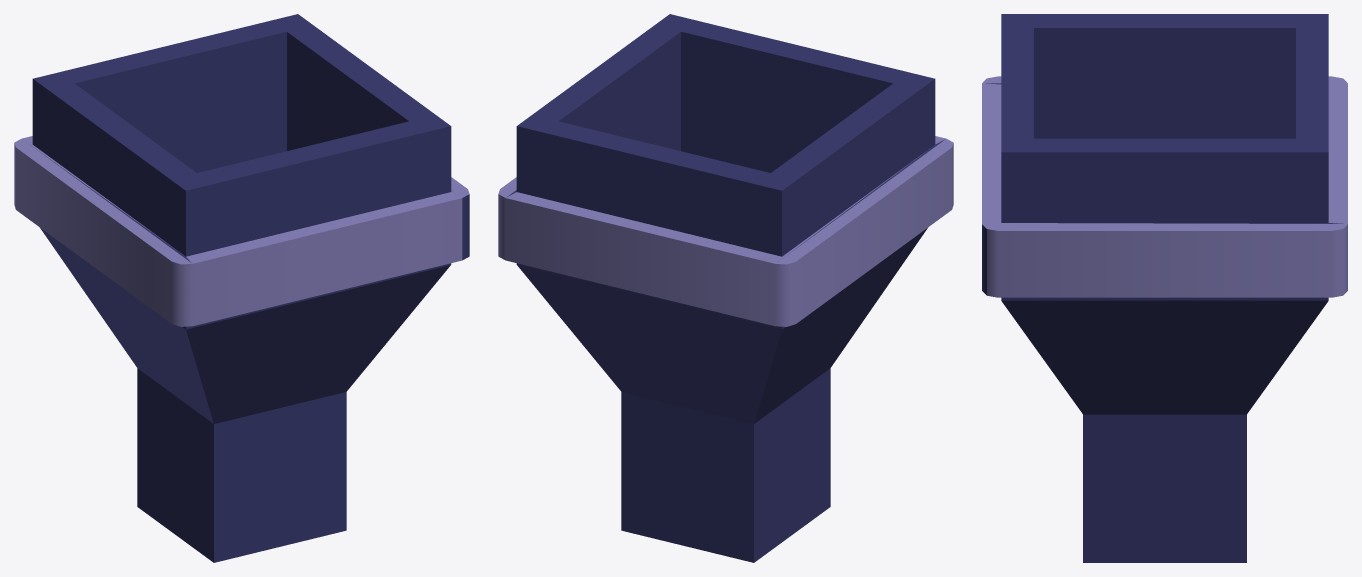
Rendered from Hopper_Square.glb.
3 renders of one model, left to right at view 1: azimuth 30°, elevation 25°; view 2: azimuth 150°, elevation 25°; view 3: azimuth 270°, elevation 25°, orthographic. The views are drawn at different scales.
Visible parts, largest first — view 1: hopper-high-square, hopper-high-square.001, hopper-high-square.002; view 2: hopper-high-square, hopper-high-square.001; view 3: hopper-high-square, hopper-high-square.001.
Boxes of the visible parts, left/top/right/bottom form: hopper-high-square: left=32, top=14, right=452, bottom=562; hopper-high-square.001: left=14, top=136, right=469, bottom=326; hopper-high-square.002: left=33, top=147, right=469, bottom=262; hopper-high-square: left=506, top=14, right=935, bottom=562; hopper-high-square.001: left=498, top=136, right=953, bottom=326; hopper-high-square: left=1001, top=14, right=1343, bottom=562; hopper-high-square.001: left=982, top=76, right=1347, bottom=297.
Bounding box in the file's own units: 1.12 × 1.5 × 1.12.
